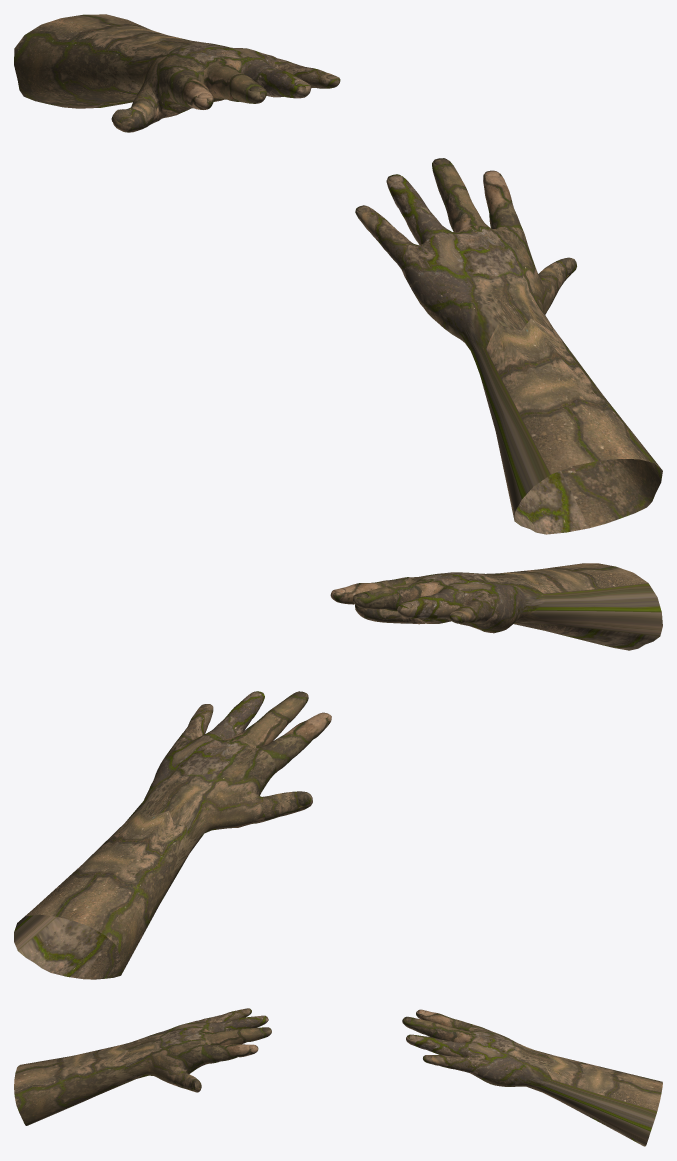
The model's file is hands_000014.obj.
The picture shows the model from 3 angles, top to bottom: view 1: azimuth 30°, elevation 25°; view 2: azimuth 150°, elevation 25°; view 3: azimuth 270°, elevation 25°; orthographic projection. The views are drawn at different scales.
Parts seen in each view (by area): view 1: hand.001_Mesh.001, hand_Mesh; view 2: hand_Mesh, hand.001_Mesh.001; view 3: hand_Mesh, hand.001_Mesh.001.
Part boxes in pixels (<box>): hand.001_Mesh.001: <box>355,158,662,534</box>; hand_Mesh: <box>14,14,340,132</box>; hand_Mesh: <box>14,691,331,979</box>; hand.001_Mesh.001: <box>330,563,662,650</box>; hand_Mesh: <box>402,1009,662,1146</box>; hand.001_Mesh.001: <box>14,1008,271,1125</box>.
Bounding box in the file's own units: 1.58 × 1.43 × 7.6.
1 material, 1 textured.
